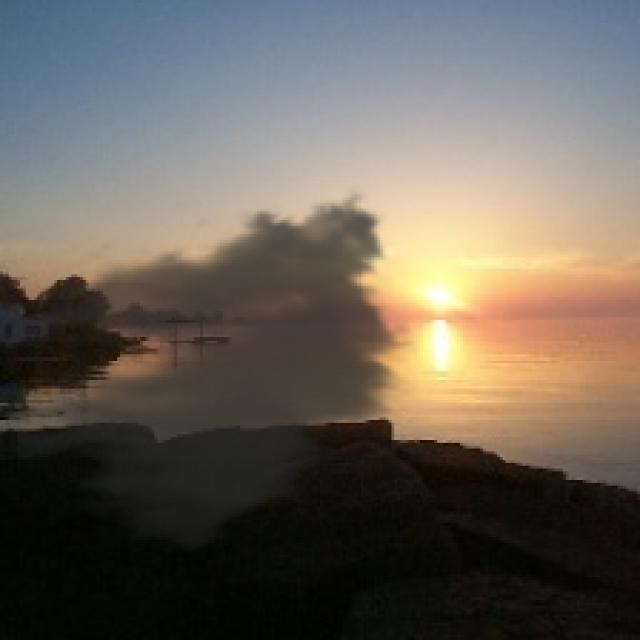smoke: (17, 183, 420, 563)
